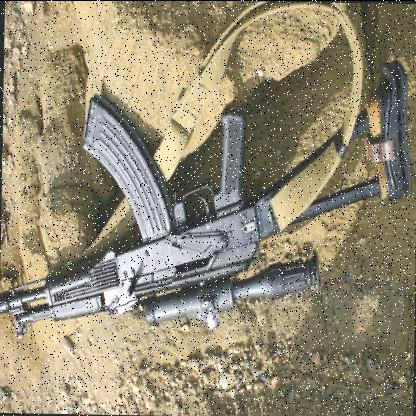rifle: (0, 90, 410, 347)
